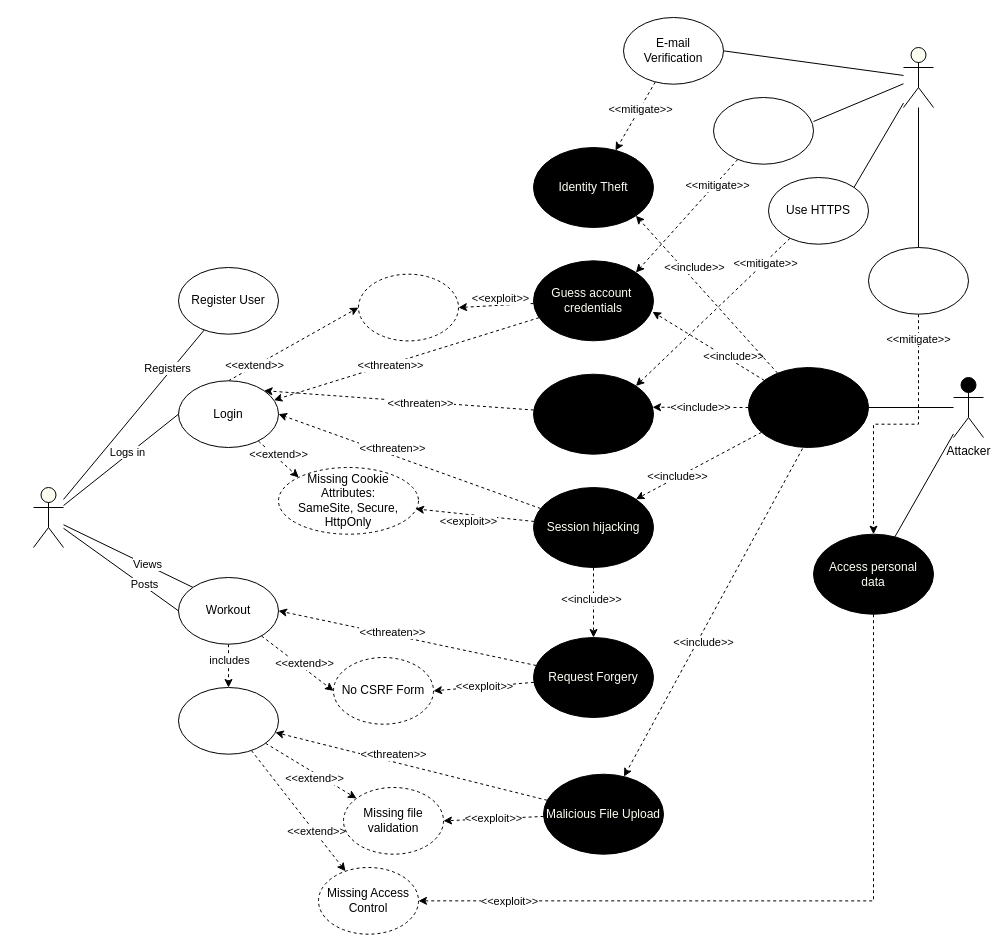
Some shapes in this 1008 by 952 pixel diagram are drawn without their labels. The box of each missing label's shape, as (x1, y1, x2, y2) in pixels:
Access Control: (868, 246, 968, 314)
Account Theft: (748, 366, 868, 448)
Enforce strong password policy: (712, 96, 814, 164)
Man-in-the-middle attack: (532, 373, 654, 454)
No throttling on login attempts: (358, 273, 458, 341)
SecFit Engineer: (902, 46, 934, 108)
SecFit User: (32, 486, 64, 548)
Upload Files: (178, 686, 278, 754)
